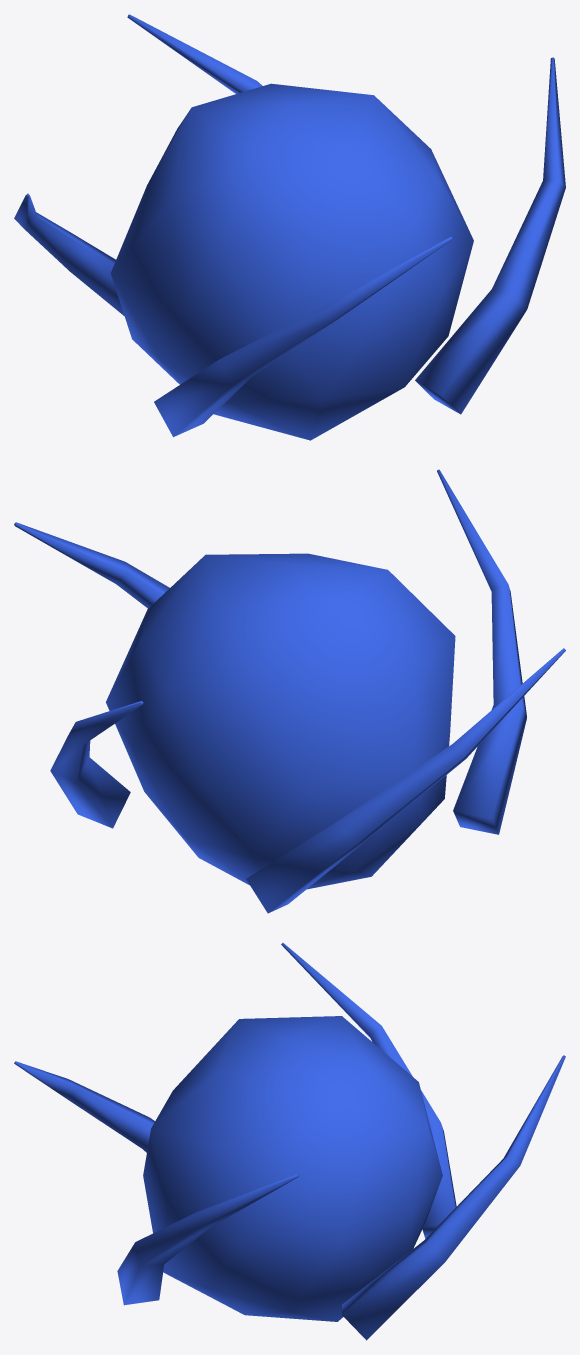
File: essence_of_might.glb
3 renders of one model, top to bottom at view 1: azimuth 30°, elevation 25°; view 2: azimuth 150°, elevation 25°; view 3: azimuth 270°, elevation 25°, orthographic. The views are drawn at different scales.
Visible parts, largest first — view 1: essence_of_might_v0; view 2: essence_of_might_v0; view 3: essence_of_might_v0.
Boxes of the visible parts, bbox=[...] form: essence_of_might_v0: bbox=[14, 14, 565, 440]; essence_of_might_v0: bbox=[14, 469, 565, 913]; essence_of_might_v0: bbox=[14, 943, 565, 1340].
Bounding box in the file's own units: 0.3016 × 0.1642 × 0.3016.
